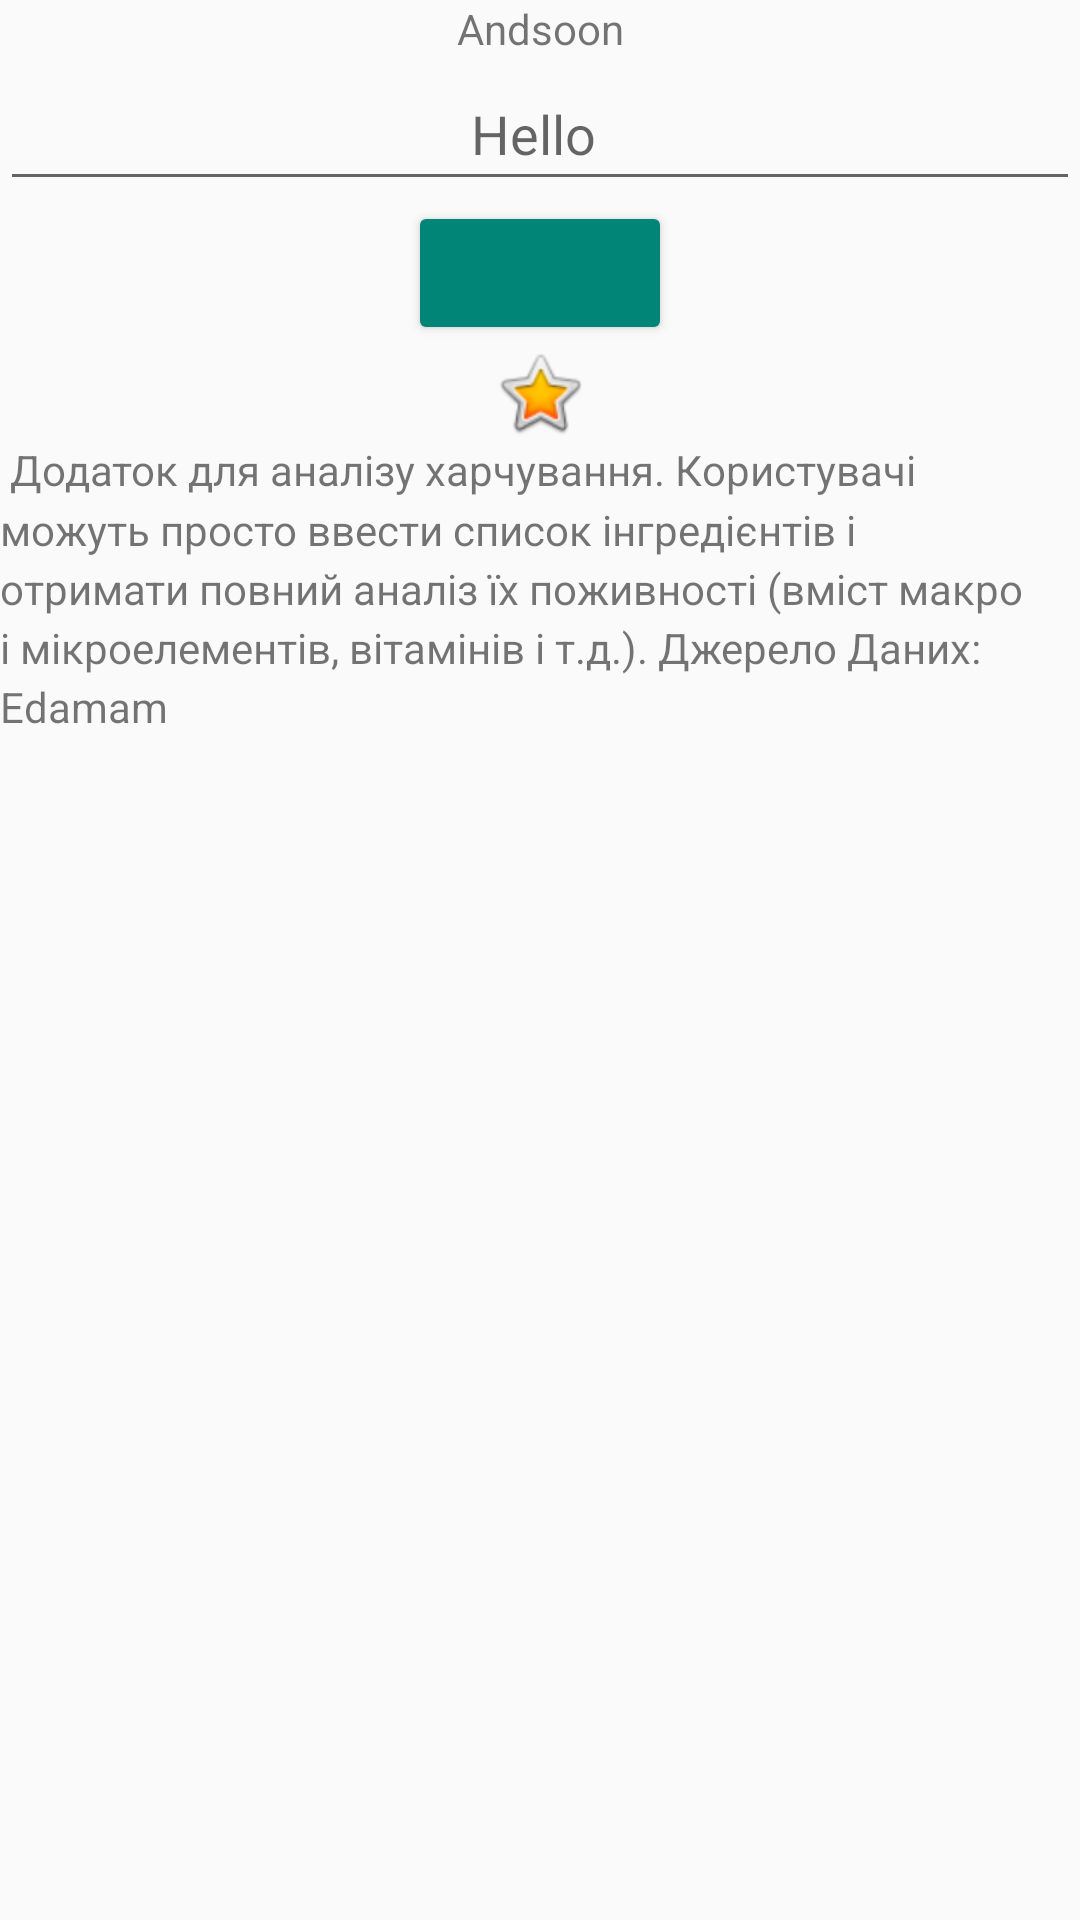

Named icons in this screenshot (1080px×1920px) and their centers, [x,y]:
star on: [541,394]
